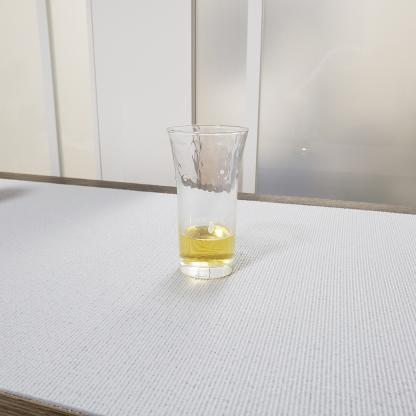glass: (161, 115, 265, 302)
